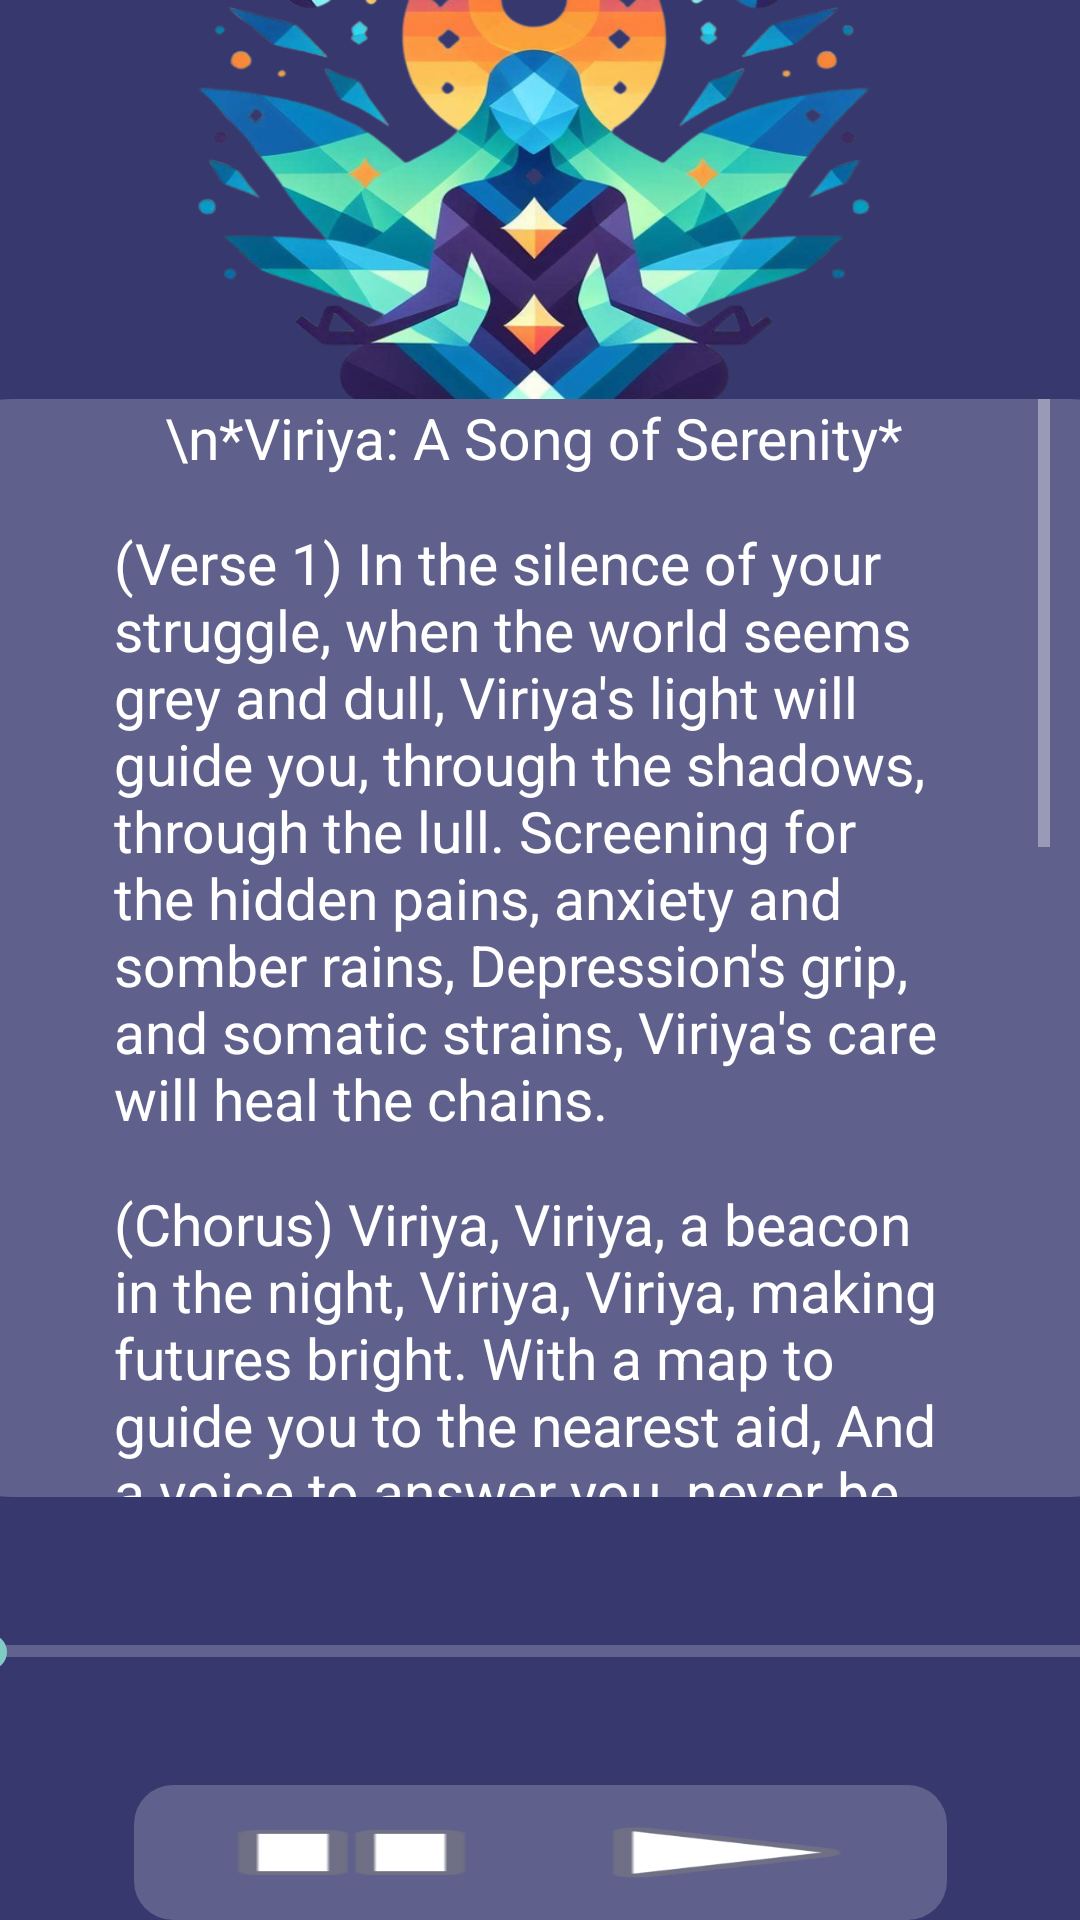

Screen size 1080×1920. Icon name, then its center in pixels as (x,y):
pause: (351,1852)
play: (726,1852)
